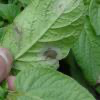Potato leaf late blight: (1, 0, 87, 72)
